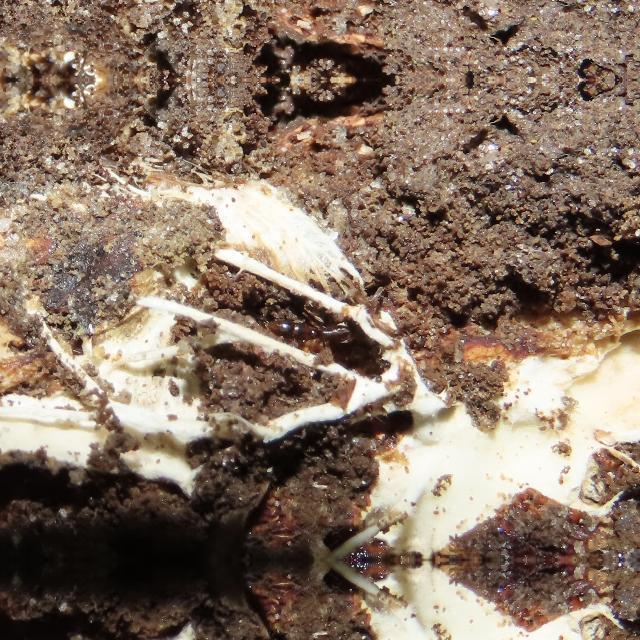Ponera: (254, 298, 374, 350)
